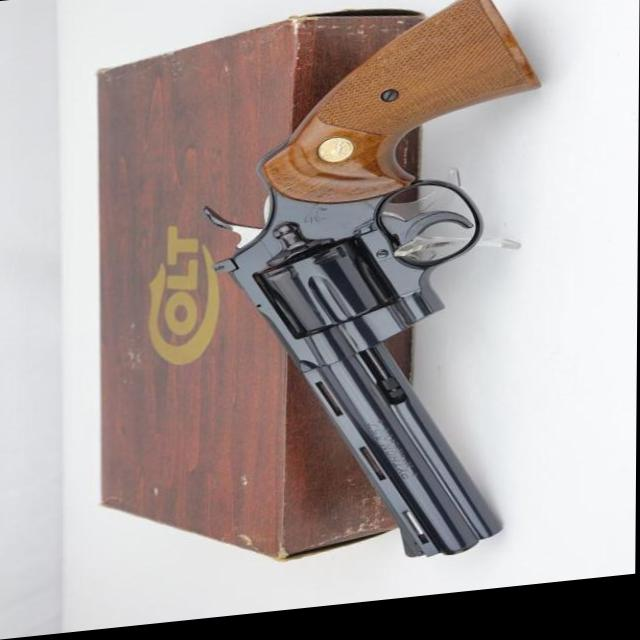handgun: (205, 0, 566, 583)
